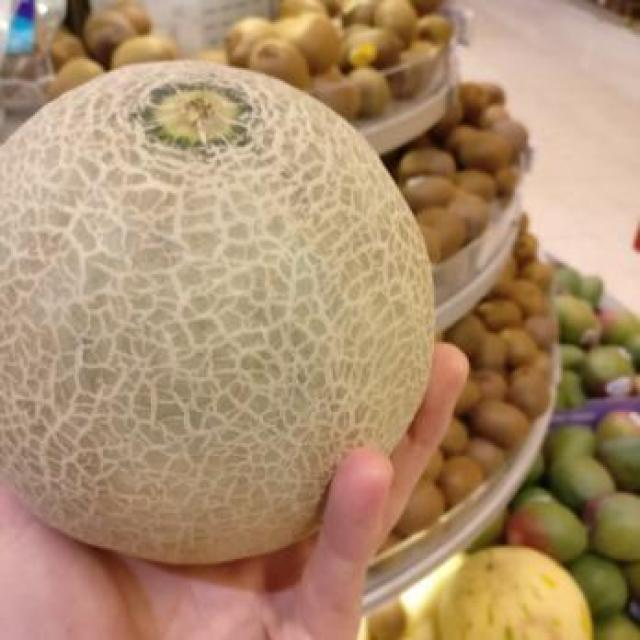Cantaloupe: (0, 59, 438, 566)
